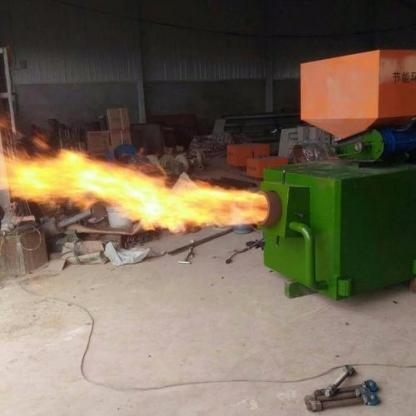fire: (2, 123, 266, 246)
other: (284, 43, 411, 139)
